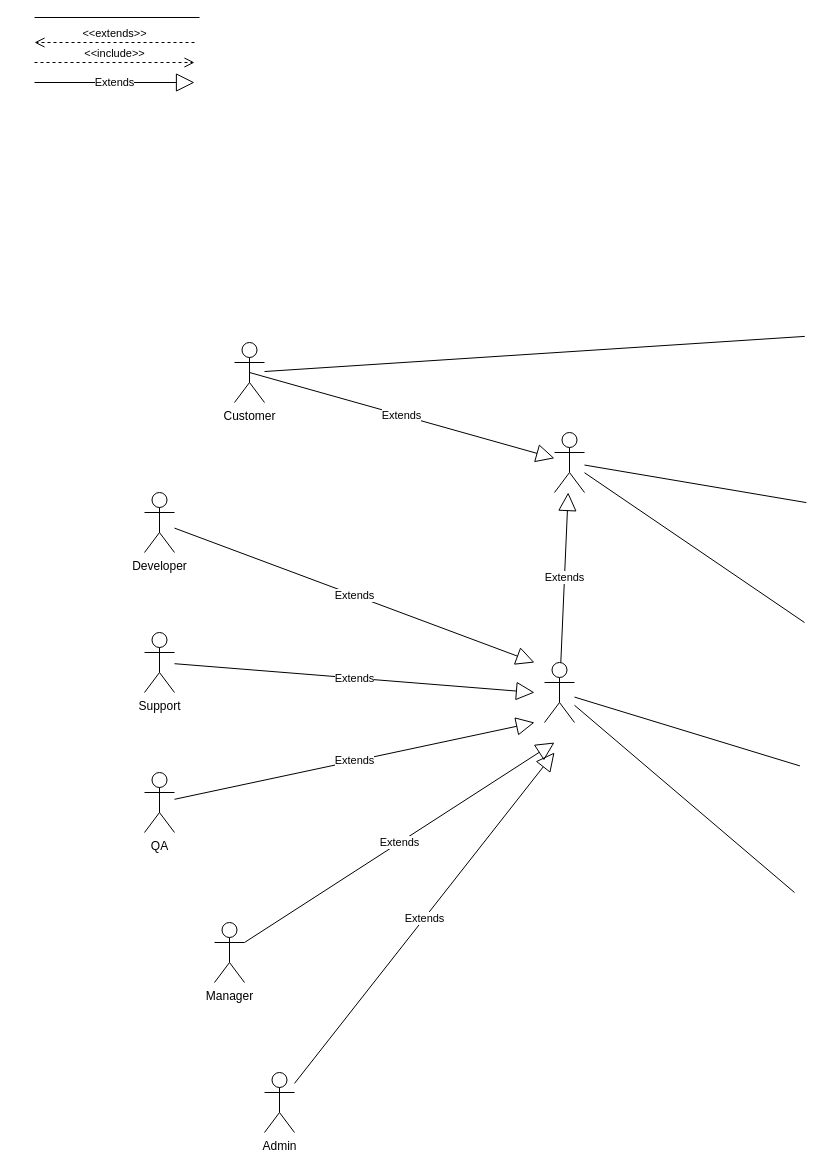
The diagram is 825 pixels wide and 1171 high, and some of its shapes have lost their labels. Each missing label, with the centre of its shape:
"Internal User" goes at pixel 559 692.
"User" goes at pixel 569 462.
